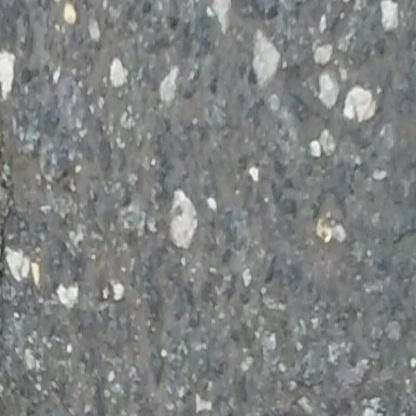Cracks: (0, 85, 18, 308), (0, 350, 17, 416)
